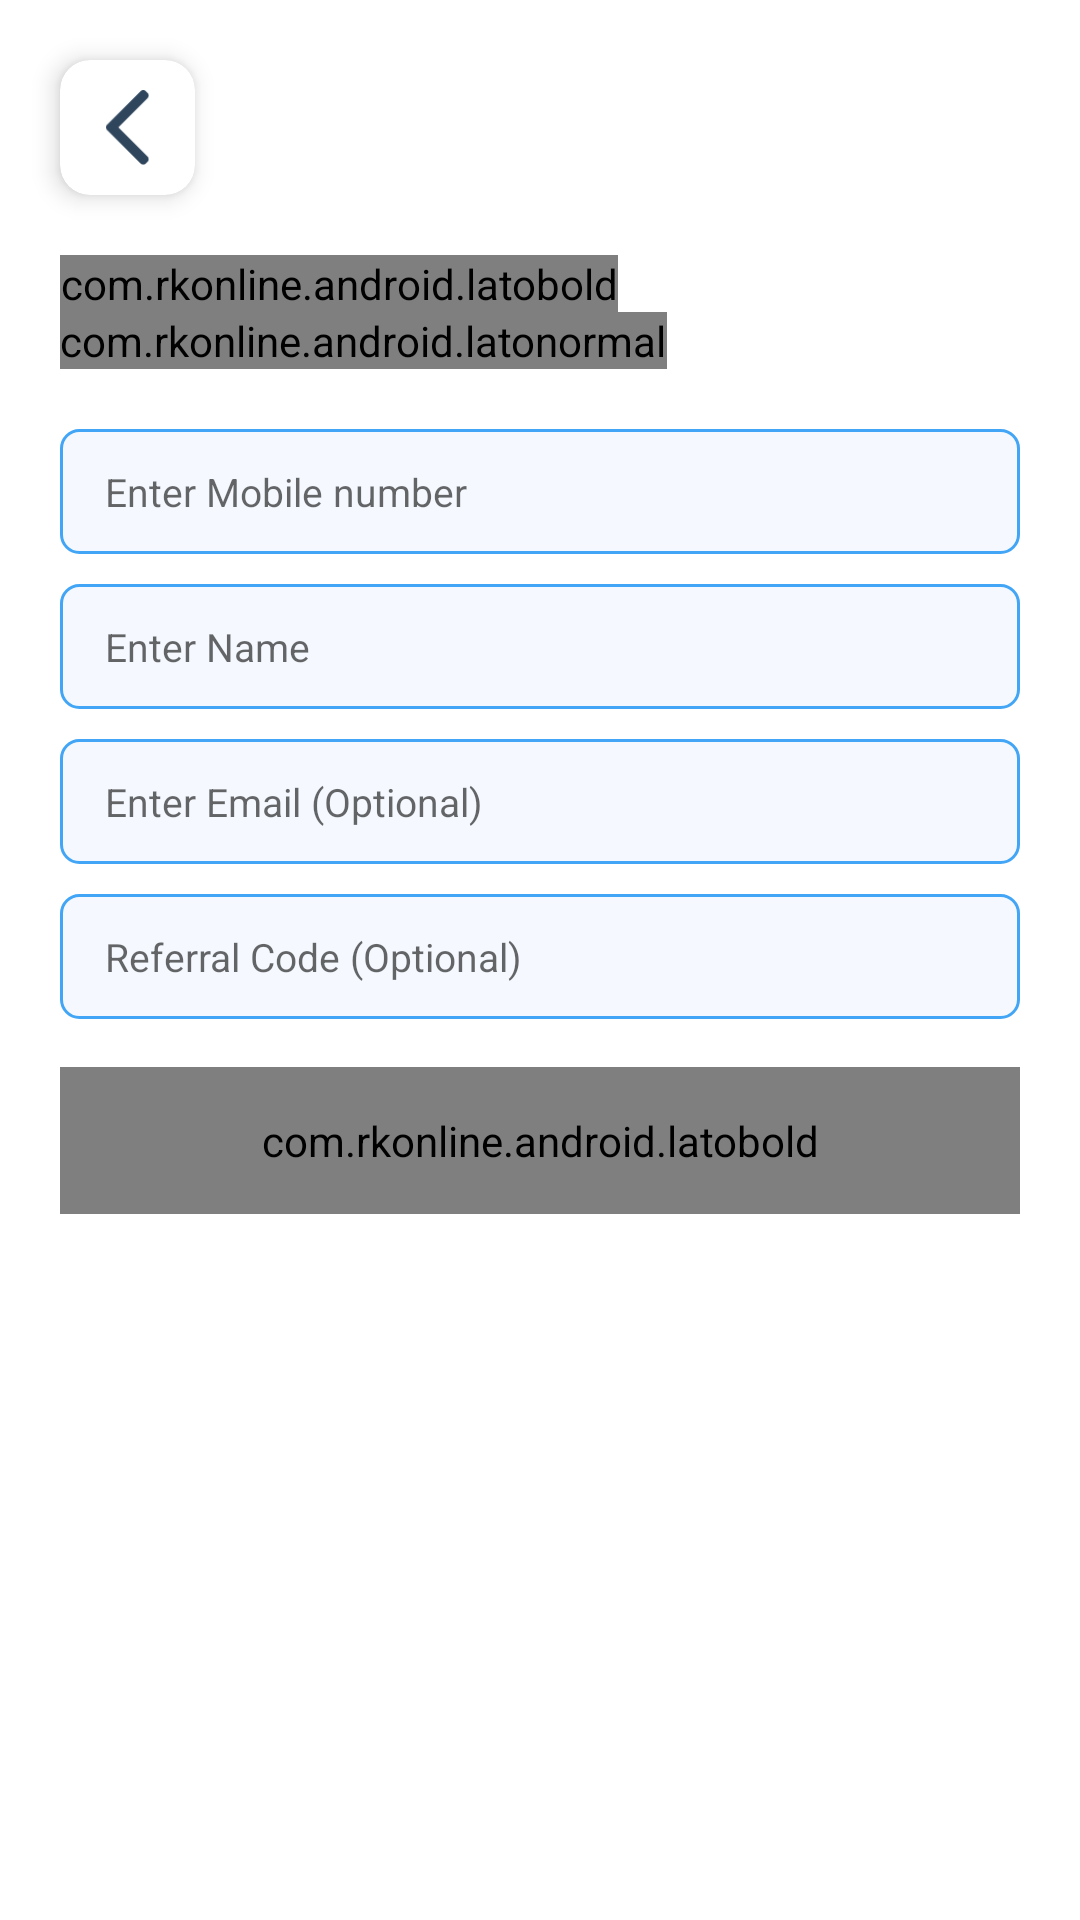

Named icons in this screenshot (1080 × 1920) and their bounding boxes, (x1, y1, x2, y2):
back: (106, 90, 149, 165)
